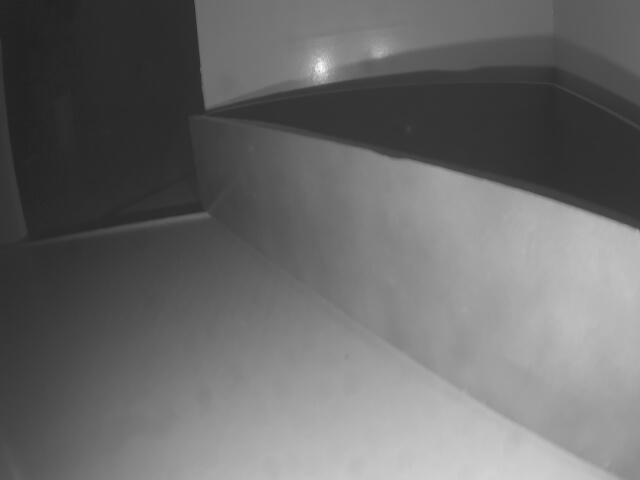Red: (188, 117, 640, 476)
